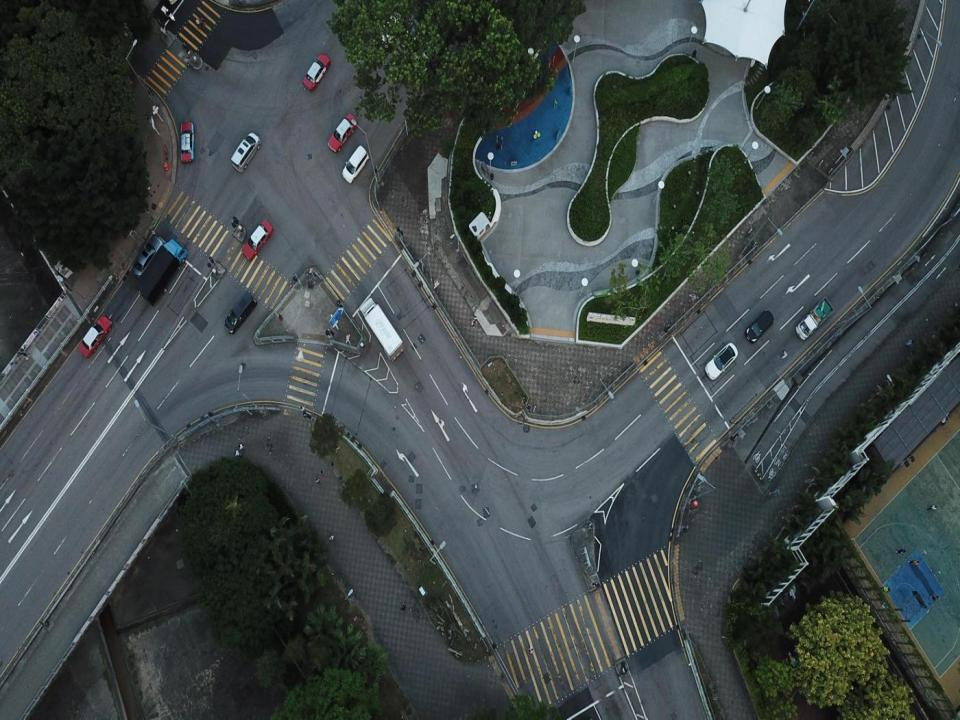car: (78, 314, 112, 359), (224, 290, 257, 334), (326, 112, 358, 153), (242, 219, 274, 260), (132, 236, 162, 278), (231, 132, 262, 172), (705, 343, 738, 380), (302, 53, 330, 91), (342, 145, 369, 184), (745, 310, 774, 342), (380, 10, 402, 48), (180, 121, 195, 164)
truck: (137, 238, 188, 307), (359, 297, 404, 362), (795, 297, 834, 339)
